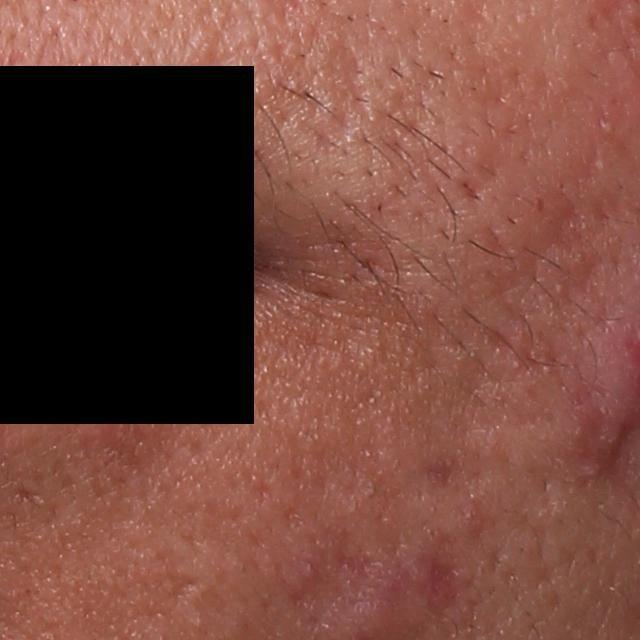atrophic_scar: (315, 35, 375, 148), (7, 484, 49, 512), (165, 569, 194, 605)
